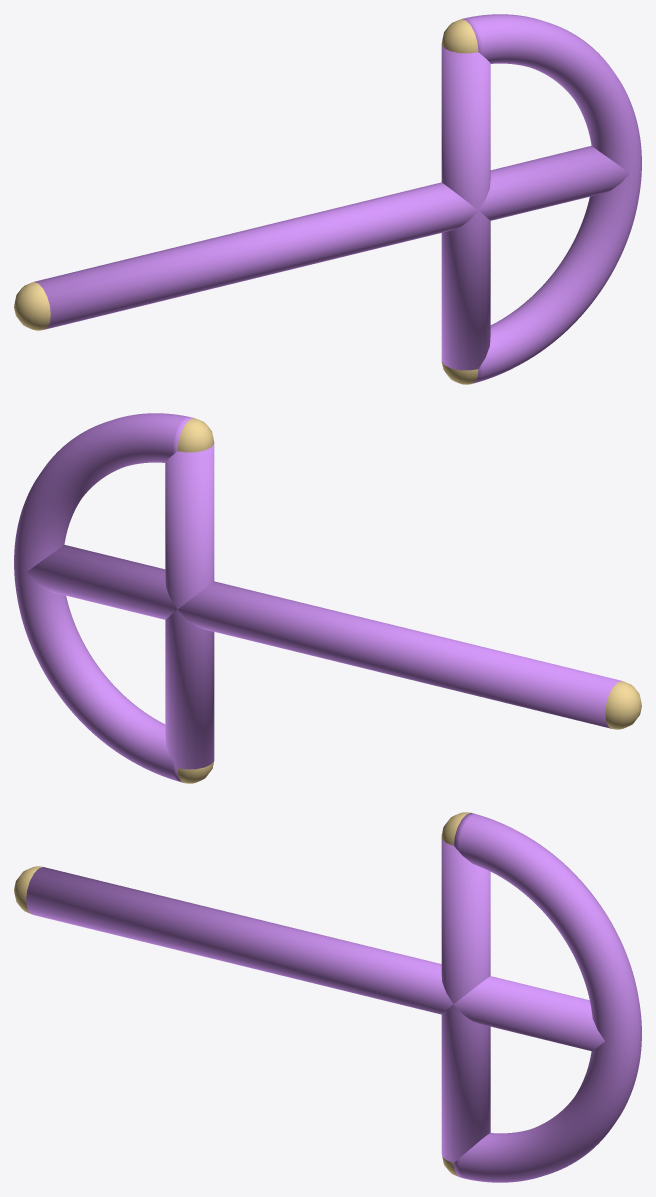
File: umbrella-kzhM1yWx.glb
The picture shows the model from 3 angles, top to bottom: view 1: azimuth 30°, elevation 25°; view 2: azimuth 150°, elevation 25°; view 3: azimuth 330°, elevation 25°; orthographic projection.
Visible parts, largest first — view 1: R3D_umbrella_Body_0, R3D_umbrella_Body_1, R3D_umbrella_Body_2, R3D_umbrella_Tip_0, R3D_umbrella_Tip_3; view 2: R3D_umbrella_Body_0, R3D_umbrella_Body_1, R3D_umbrella_Body_2, R3D_umbrella_Tip_0, R3D_umbrella_Tip_3; view 3: R3D_umbrella_Body_0, R3D_umbrella_Body_1, R3D_umbrella_Body_2, R3D_umbrella_Tip_0.
Part boxes in pixels (x1,y1,x2,y2): R3D_umbrella_Body_0: (34, 146, 629, 329); R3D_umbrella_Body_1: (462, 14, 641, 383); R3D_umbrella_Body_2: (441, 45, 490, 370); R3D_umbrella_Tip_0: (14, 282, 50, 330); R3D_umbrella_Tip_3: (441, 19, 478, 53); R3D_umbrella_Body_0: (26, 545, 621, 728); R3D_umbrella_Body_1: (14, 413, 193, 782); R3D_umbrella_Body_2: (165, 444, 214, 769); R3D_umbrella_Tip_0: (605, 681, 641, 729); R3D_umbrella_Tip_3: (177, 418, 214, 452); R3D_umbrella_Body_0: (26, 867, 604, 1050); R3D_umbrella_Body_1: (453, 813, 641, 1182); R3D_umbrella_Body_2: (441, 837, 490, 1162); R3D_umbrella_Tip_0: (14, 866, 42, 914).
Size of the model in its own units: 3.49 by 1.94 by 0.24.
